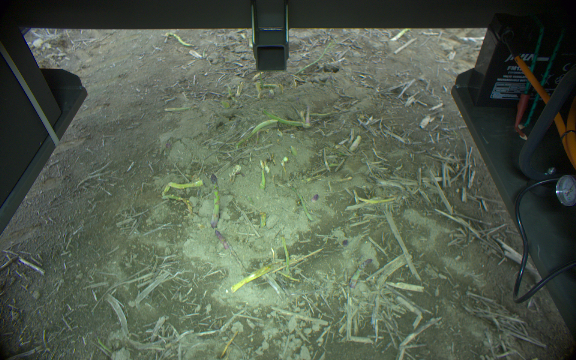aspa: (212, 230, 246, 272), (228, 262, 273, 293), (241, 120, 282, 149), (155, 176, 204, 200), (260, 107, 306, 129), (206, 172, 223, 230), (349, 257, 373, 289), (255, 159, 270, 194)
